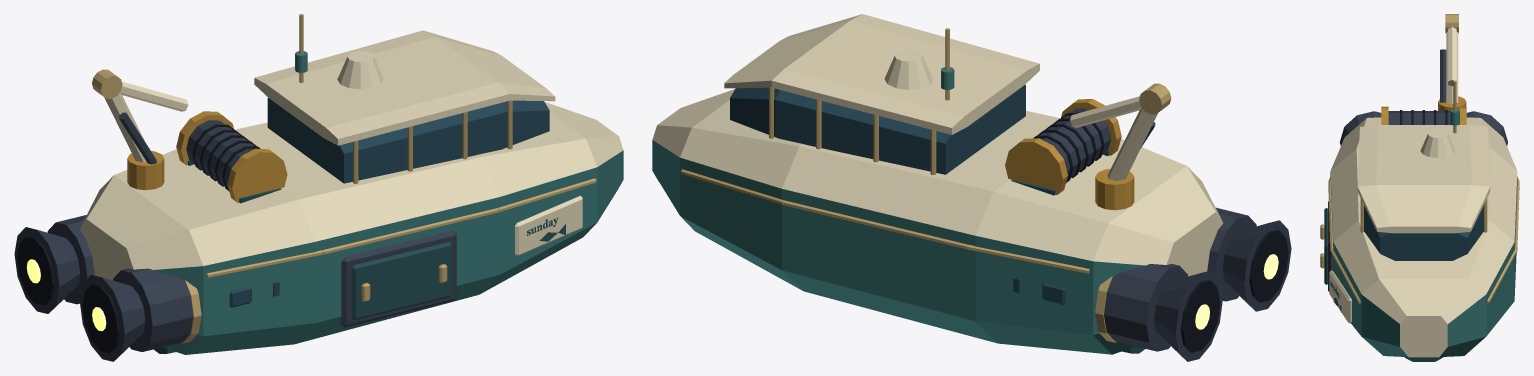
The model's file is sunday-catch.glb.
The picture shows the model from 3 angles, left to right: view 1: azimuth 30°, elevation 25°; view 2: azimuth 150°, elevation 25°; view 3: azimuth 270°, elevation 25°; orthographic projection. The views are drawn at different scales.
Parts seen in each view (by area): view 1: original pressure hull, salon roof, sealed panoramic salon, refinished hatch, engine jacket, retained cargo hatch frame, nozzle bell.001, nozzle bell, winch cheek, name plaque, winch drum, nozzle throat (+13 smaller); view 2: original pressure hull, salon roof, sealed panoramic salon, engine jacket.001, nozzle bell, nozzle bell.001, winch cheek.001, winch drum, nozzle throat.001, nozzle throat, engine jacket, new navigation radome (+9 smaller); view 3: original pressure hull, salon roof, sealed panoramic salon, winch drum, new navigation radome, name plaque, boom return, folded boom, nozzle bell, nozzle bell.001, hydraulic cylinder, refinished hatch (+7 smaller).
Part boxes in pixels (box(x1,y1,x2,y2)): original pressure hull: box(79, 102, 623, 354); salon roof: box(254, 30, 555, 145); sealed panoramic salon: box(267, 98, 549, 183); refinished hatch: box(351, 242, 451, 320); engine jacket: box(113, 268, 193, 351); retained cargo hatch frame: box(341, 230, 456, 327); nozzle bell.001: box(14, 227, 80, 313); nozzle bell: box(80, 275, 145, 361); winch cheek: box(227, 148, 287, 202); name plaque: box(515, 195, 582, 256); winch drum: box(186, 120, 254, 188); nozzle throat: box(82, 284, 119, 352); original pressure hull: box(652, 89, 1223, 354); salon roof: box(724, 14, 1039, 134); sealed panoramic salon: box(730, 85, 1025, 174); engine jacket.001: box(1104, 264, 1187, 351); nozzle bell: box(1222, 220, 1291, 311); nozzle bell.001: box(1154, 270, 1222, 361); winch cheek.001: box(1005, 138, 1067, 194); winch drum: box(1039, 108, 1111, 179); nozzle throat.001: box(1180, 280, 1220, 352); nozzle throat: box(1249, 230, 1288, 302); engine jacket: box(1207, 207, 1256, 301); new navigation radome: box(884, 50, 932, 89); original pressure hull: box(1330, 117, 1517, 357); salon roof: box(1357, 125, 1490, 233); sealed panoramic salon: box(1364, 205, 1483, 260); winch drum: box(1388, 111, 1451, 124); new navigation radome: box(1420, 129, 1455, 157); name plaque: box(1329, 270, 1351, 323); boom return: box(1448, 26, 1456, 86); folded boom: box(1446, 32, 1458, 103); nozzle bell: box(1339, 111, 1381, 145); nozzle bell.001: box(1466, 111, 1507, 145); hydraulic cylinder: box(1440, 49, 1446, 102); refinished hatch: box(1324, 208, 1327, 284).
Bounding box in the file's own units: 8.44 × 4.13 × 3.52.
